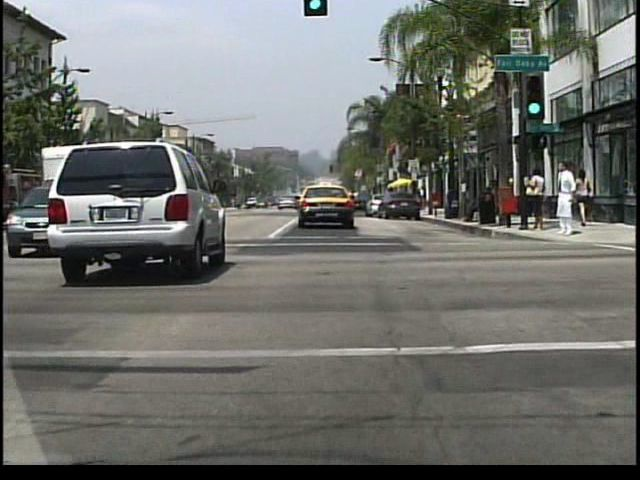person: (554, 160, 576, 237), (526, 165, 546, 235), (573, 168, 593, 229), (460, 189, 483, 225), (482, 179, 495, 222), (417, 186, 428, 213)
